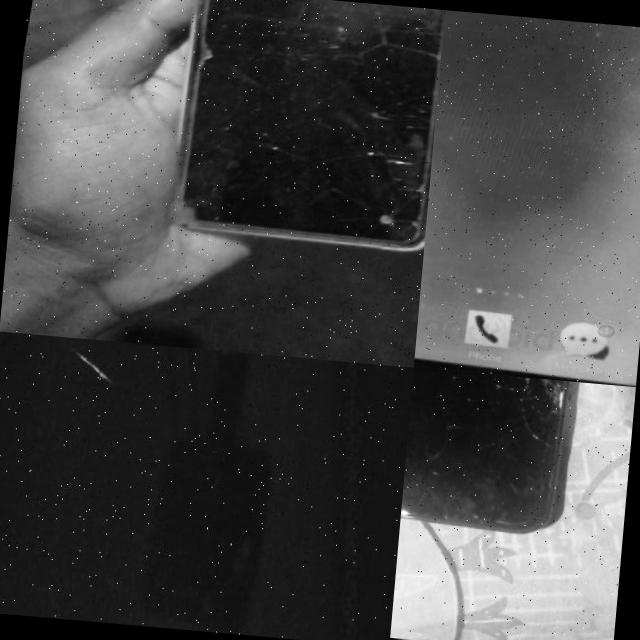scratch: (54, 354, 107, 392)
screen crack: (422, 368, 628, 478), (253, 0, 443, 117), (330, 180, 428, 265), (137, 182, 224, 253), (344, 145, 431, 181)
